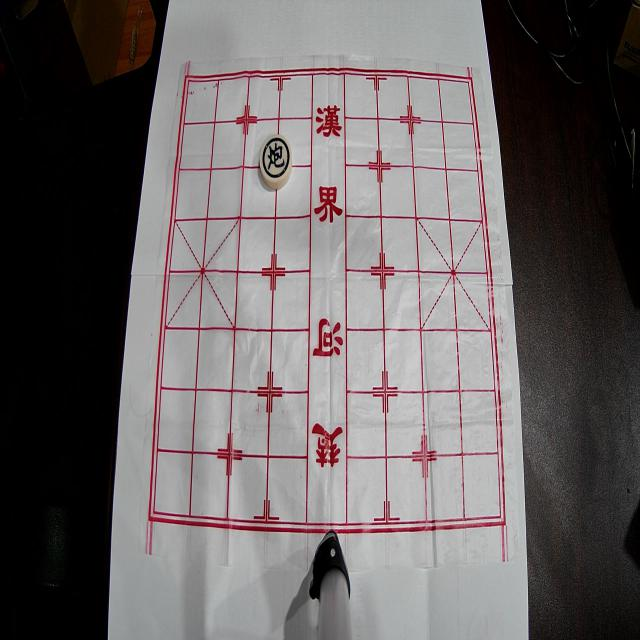black-cannon: (260, 135, 292, 189)
